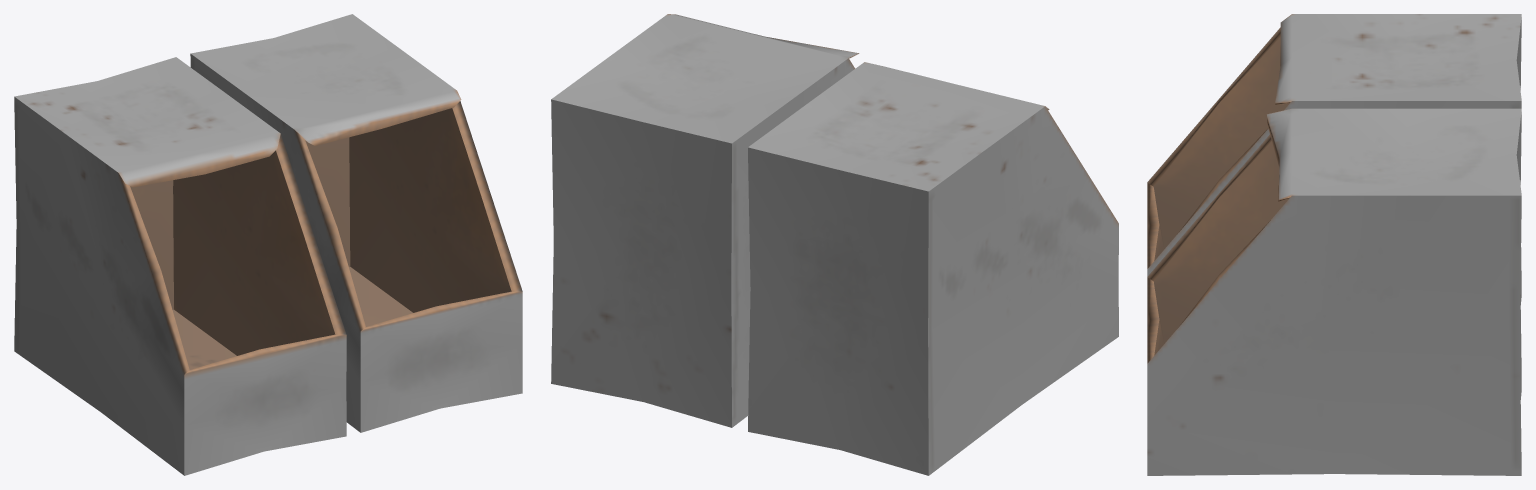
The model's file is SM_CartonDrawer_04.FBX.
3 views of the same model, side by side, from view 1: azimuth 30°, elevation 25°; view 2: azimuth 150°, elevation 25°; view 3: azimuth 270°, elevation 25° (orthographic). The views are drawn at different scales.
Parts seen in each view (by area): view 1: SM_CartonDrawer_04; view 2: SM_CartonDrawer_04; view 3: SM_CartonDrawer_04.
Boxes of the visible parts, <box> form: SM_CartonDrawer_04: <box>14,14,522,475</box>; SM_CartonDrawer_04: <box>551,14,1118,475</box>; SM_CartonDrawer_04: <box>1147,14,1521,475</box>.
Bounding box in the file's own units: 26.4 × 23.02 × 19.01.
